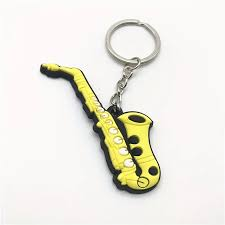Saxophone: (19, 14, 212, 201)
